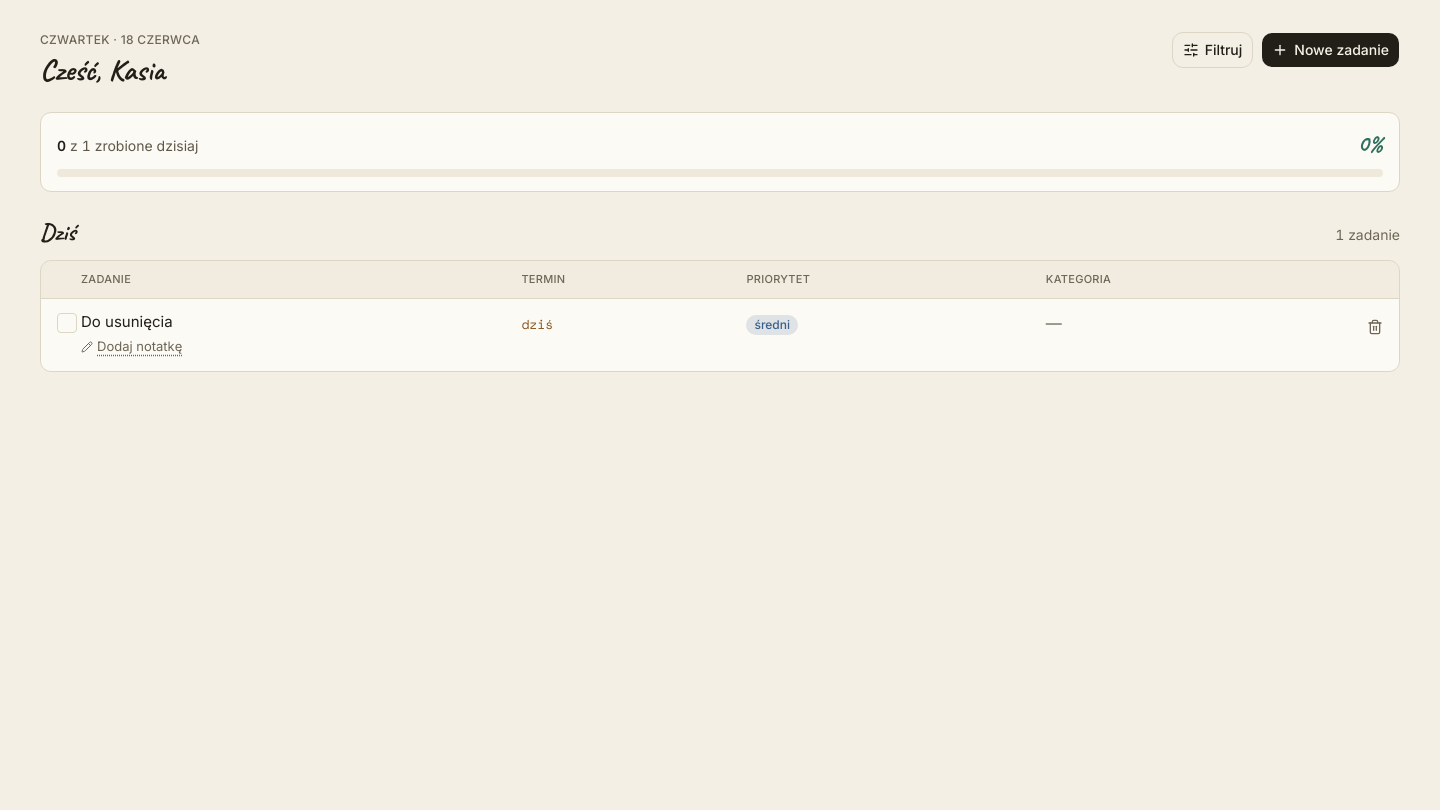
Scenario: TodayPage (P-D) › kosz otwiera modal potwierdzenia → „Usuń zadanie" kasuje (POPRAWKA 4)
Click the button named "Usuń zadanie: Do usunięcia".
click(1375, 326)  # box [1359,310,1391,342]
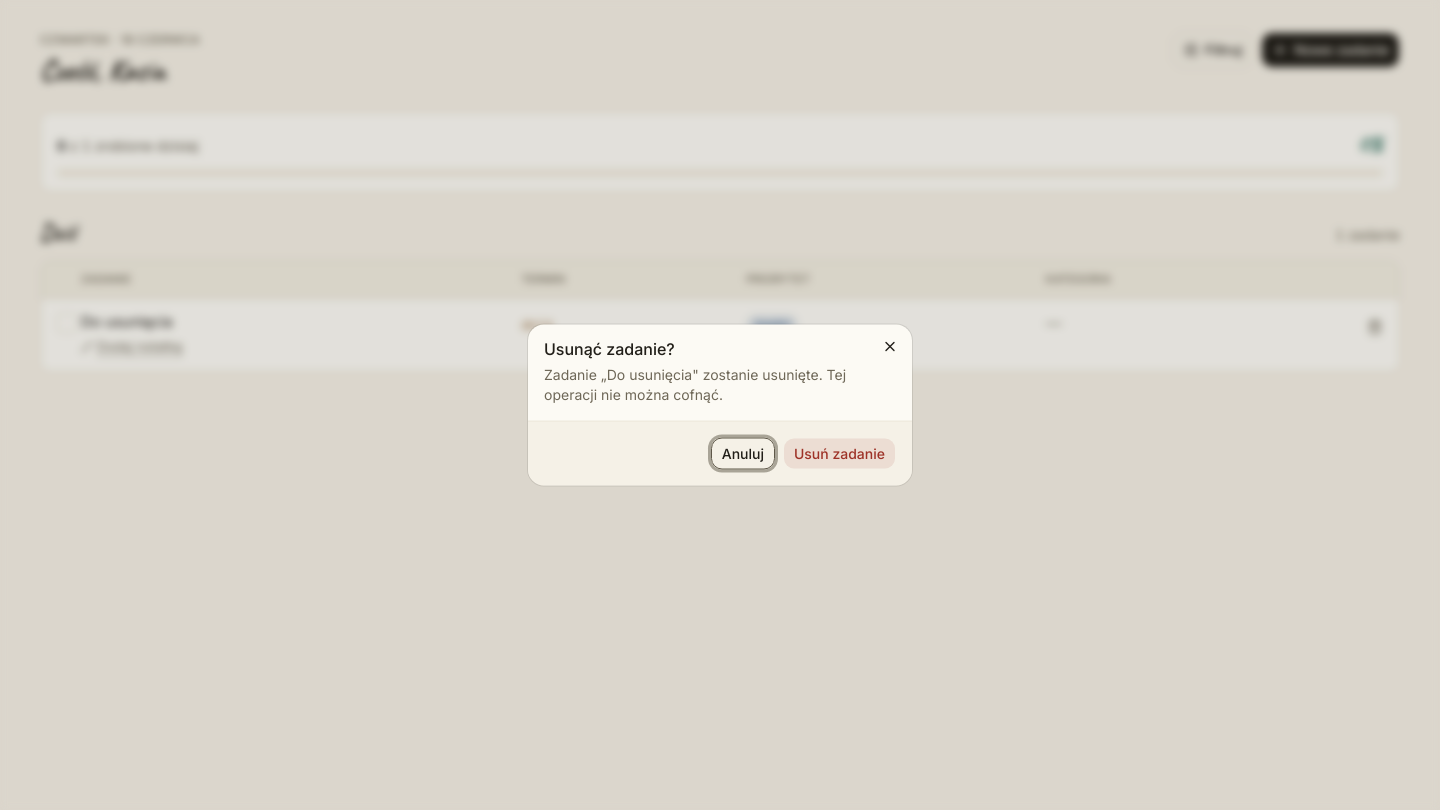
Check: the heading "Usunąć zadanie?" is shown, box [544,338,675,358]
Click the button "Usuń zadanie".
click(840, 454)  # box [783,438,896,470]
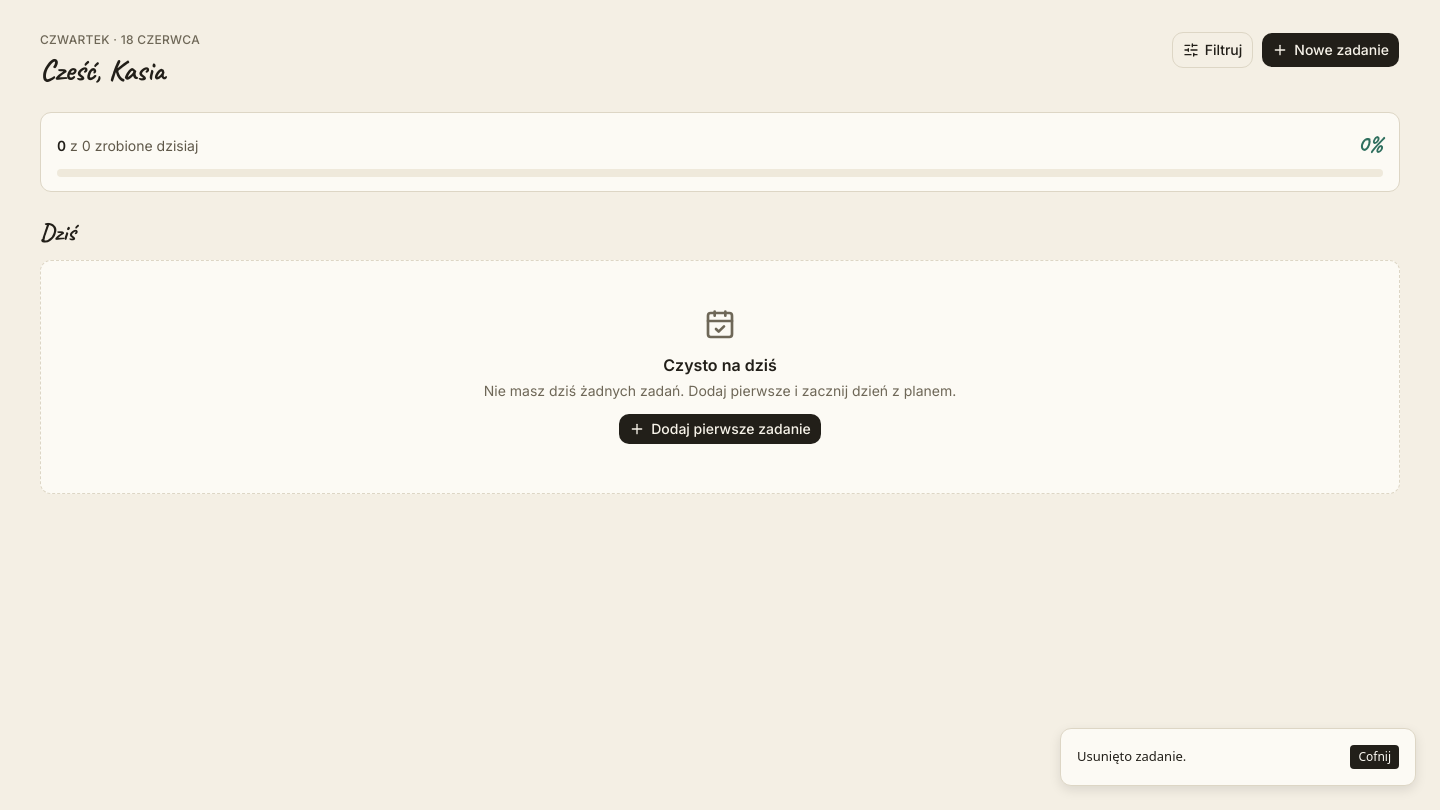
Check: the text "Do usunięcia" is gone
